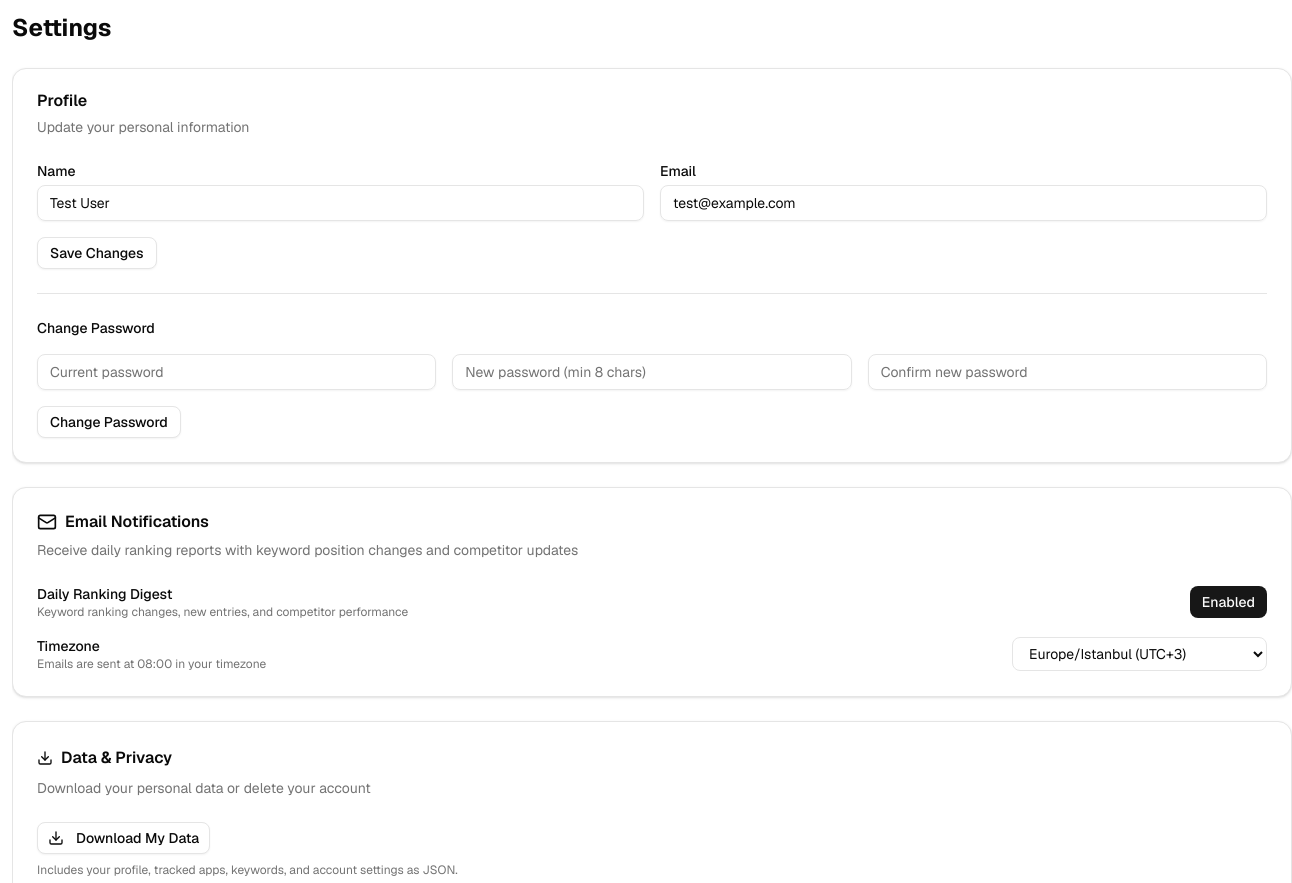
SettingsPage › shows password mismatch error
This screenshot has width=1292, height=883.
Step 1. Type "oldpass123" into the password field with placeholder "Current password" → (237, 372), box [37,354,436,390]
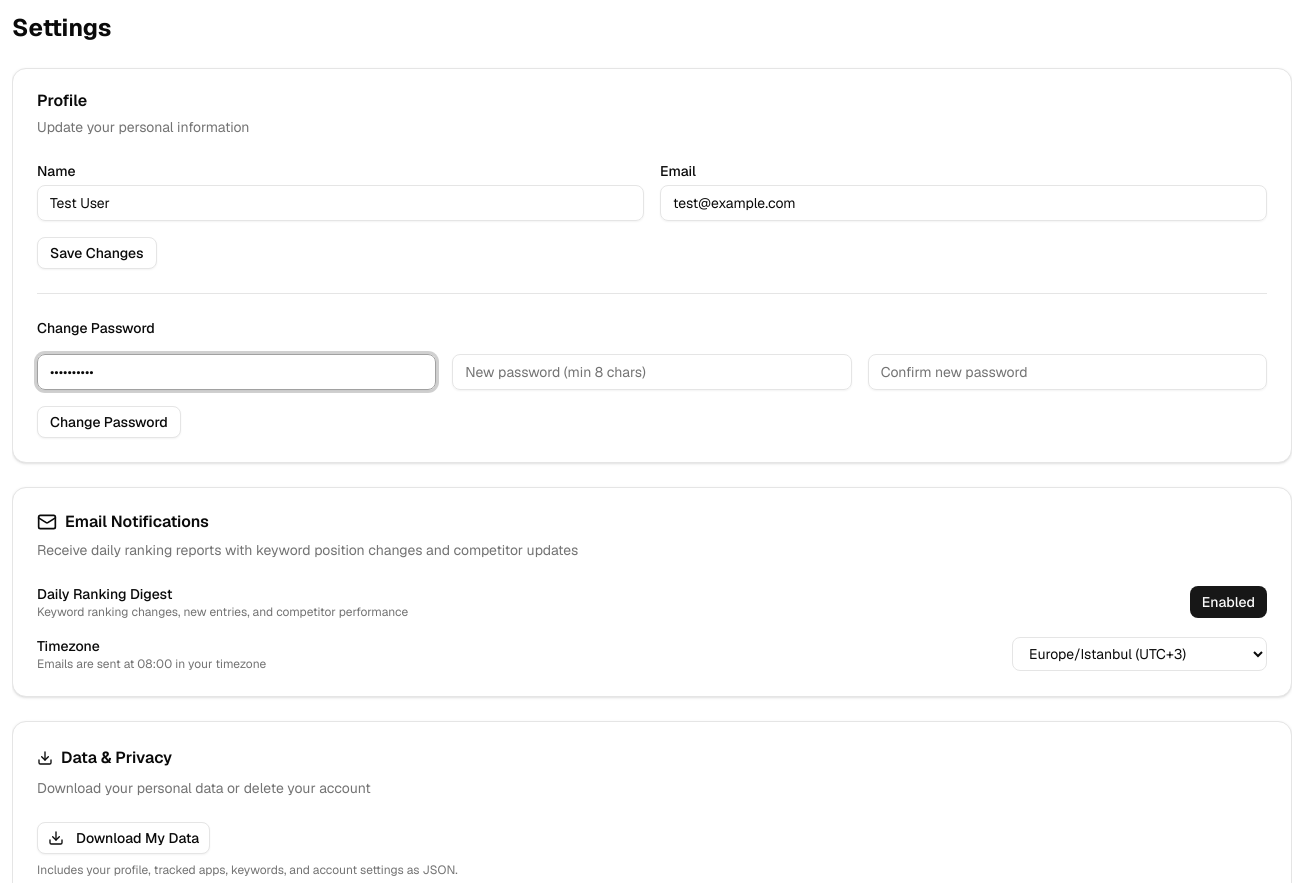
Step 2. Type "newpass123" into the password field with placeholder "New password (min 8 chars)" → (652, 372), box [452,354,852,390]
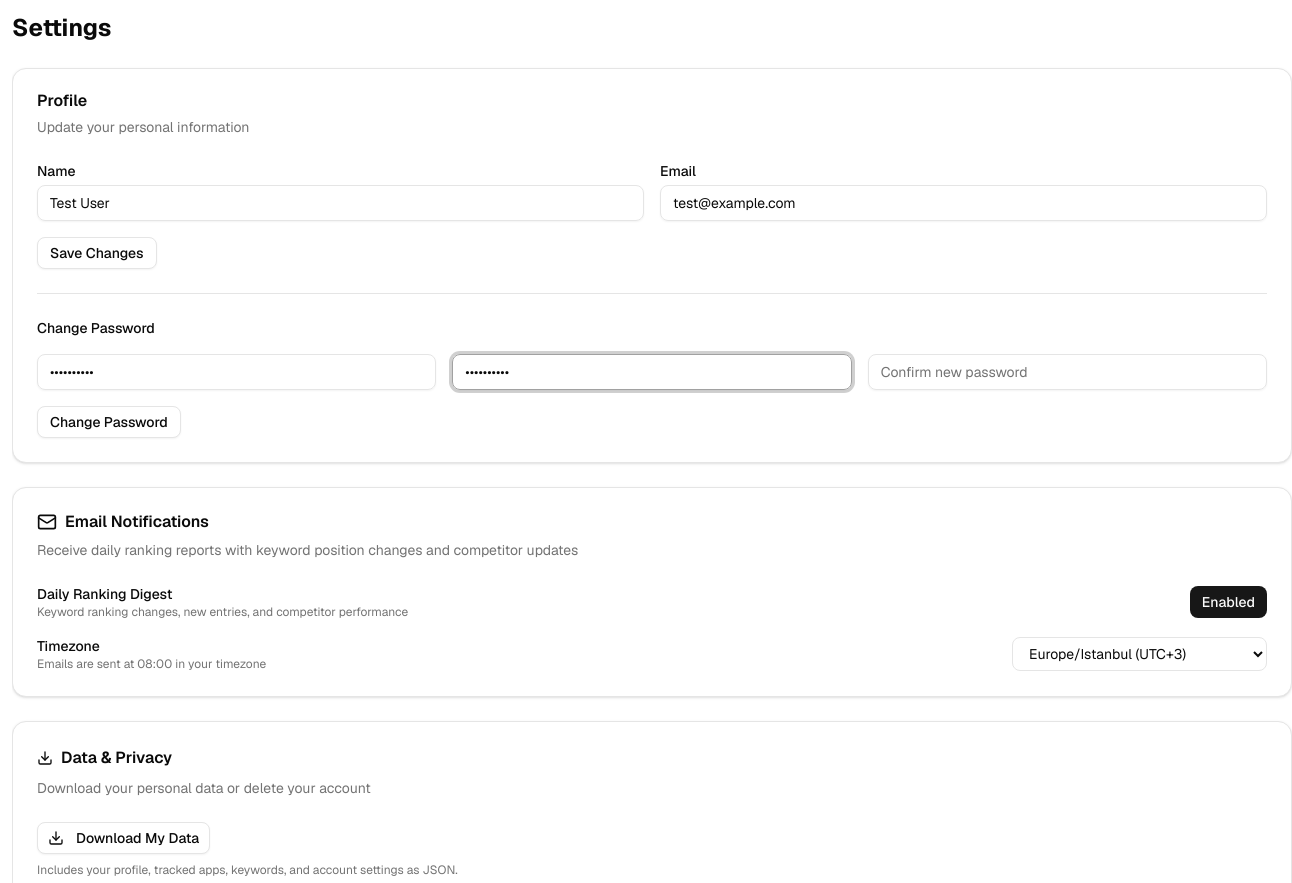
Step 3. Type "differentpass" into the password field with placeholder "Confirm new password" → (1067, 372), box [868,354,1267,390]
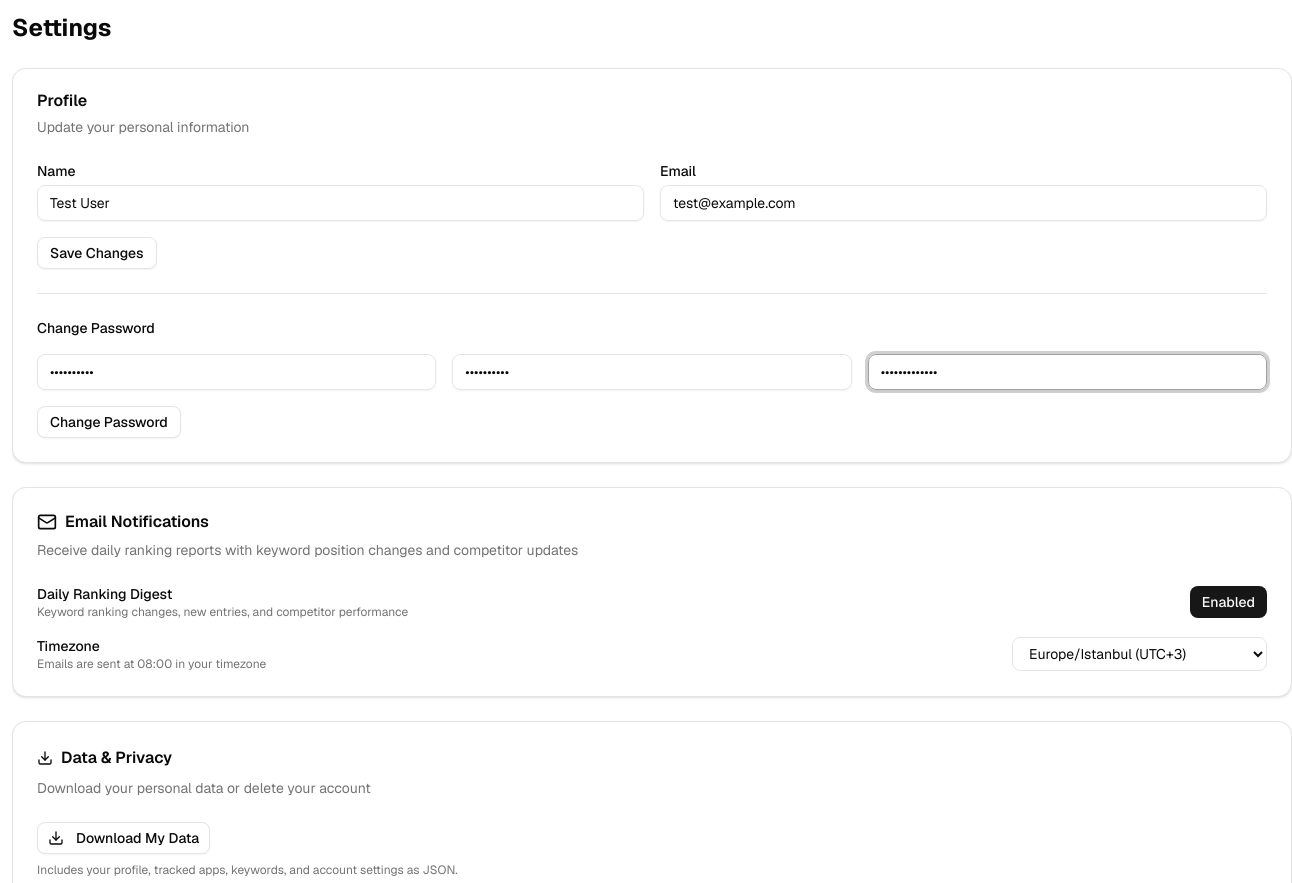
Step 4. Click the button "Change Password" → (109, 422), box [37,406,181,438]
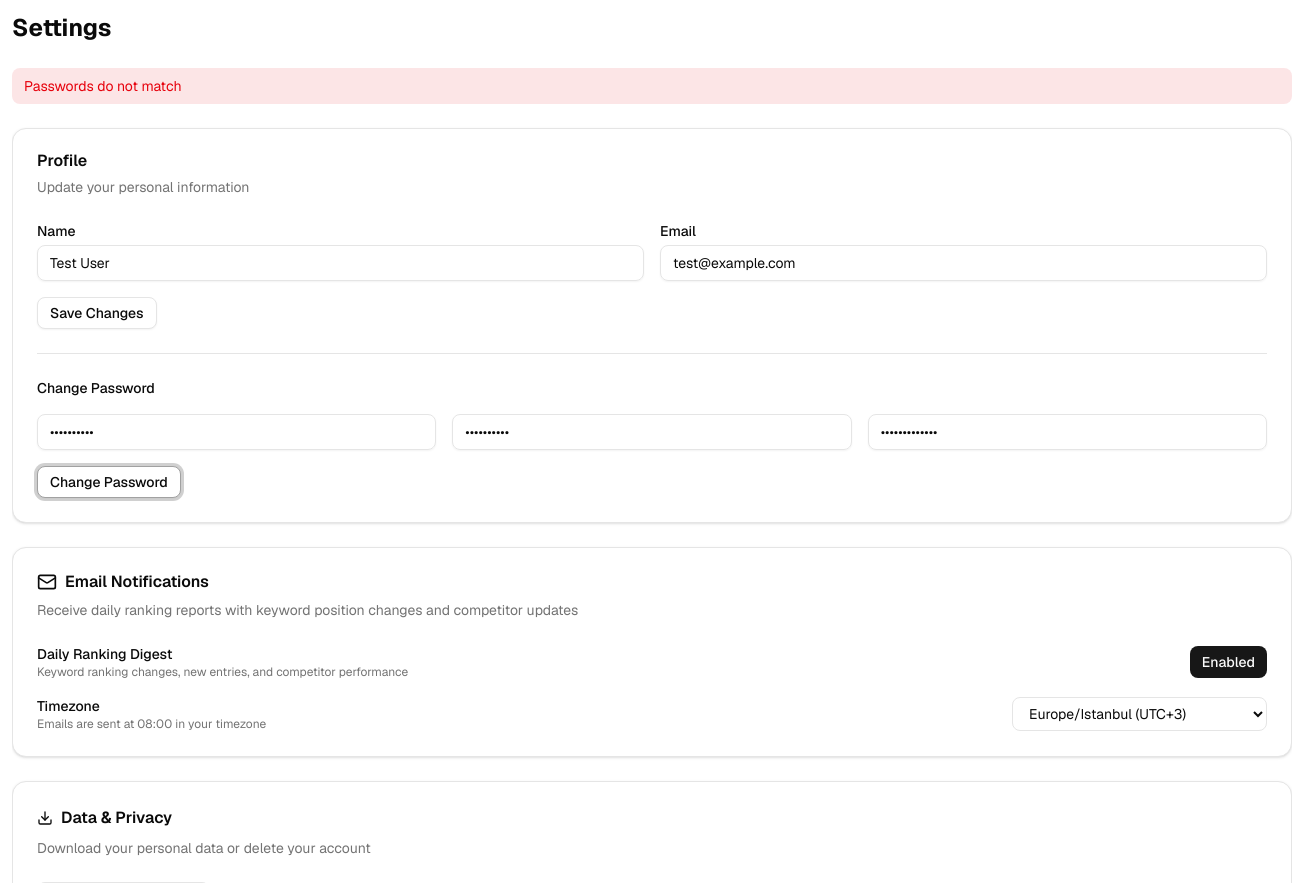
Expected: the text "Passwords do not match" is shown, [12,68,1291,104]
